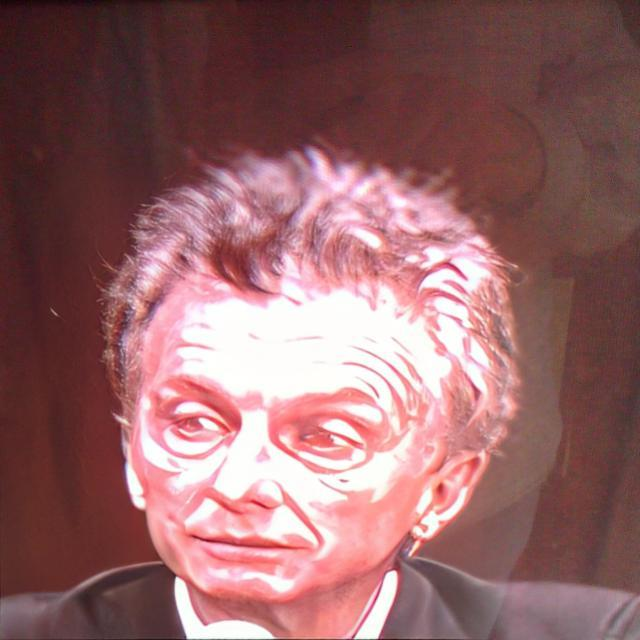sad: (135, 260, 426, 602)
